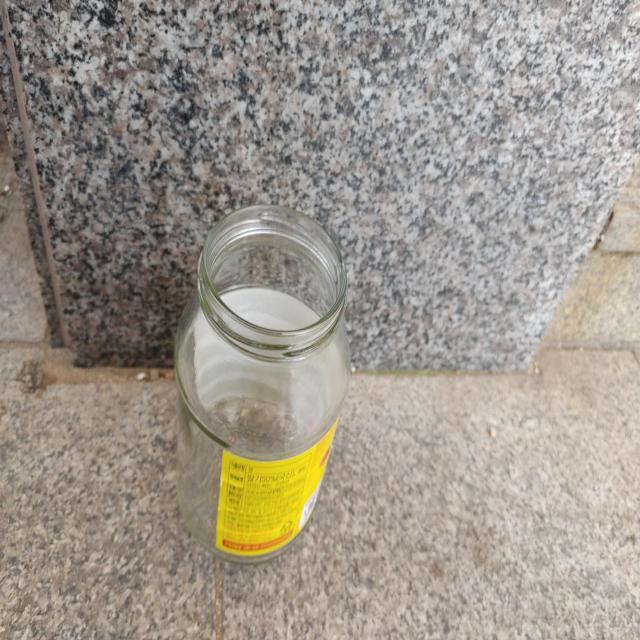glass: (175, 205, 350, 563)
